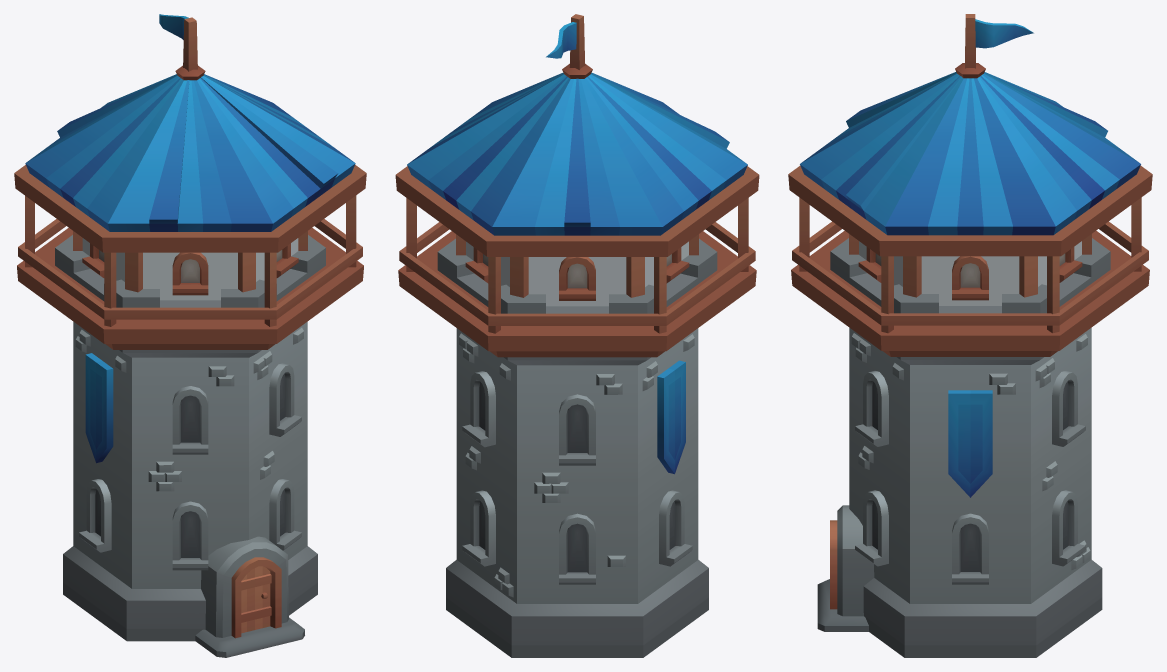
Rendered from kay-torre-pedra.gltf.
3 renders of one model, left to right at view 1: azimuth 30°, elevation 25°; view 2: azimuth 150°, elevation 25°; view 3: azimuth 270°, elevation 25°, orthographic. The views are drawn at different scales.
Visible parts, largest first — view 1: building_tower_B_blue; view 2: building_tower_B_blue; view 3: building_tower_B_blue.
Boxes of the visible parts, x1,y1,x2,y2 form: building_tower_B_blue: [14, 14, 366, 657]; building_tower_B_blue: [395, 14, 759, 657]; building_tower_B_blue: [788, 14, 1152, 657].
Bounding box in the file's own units: 5.99 × 12.43 × 6.91.
1 material, 1 textured.
